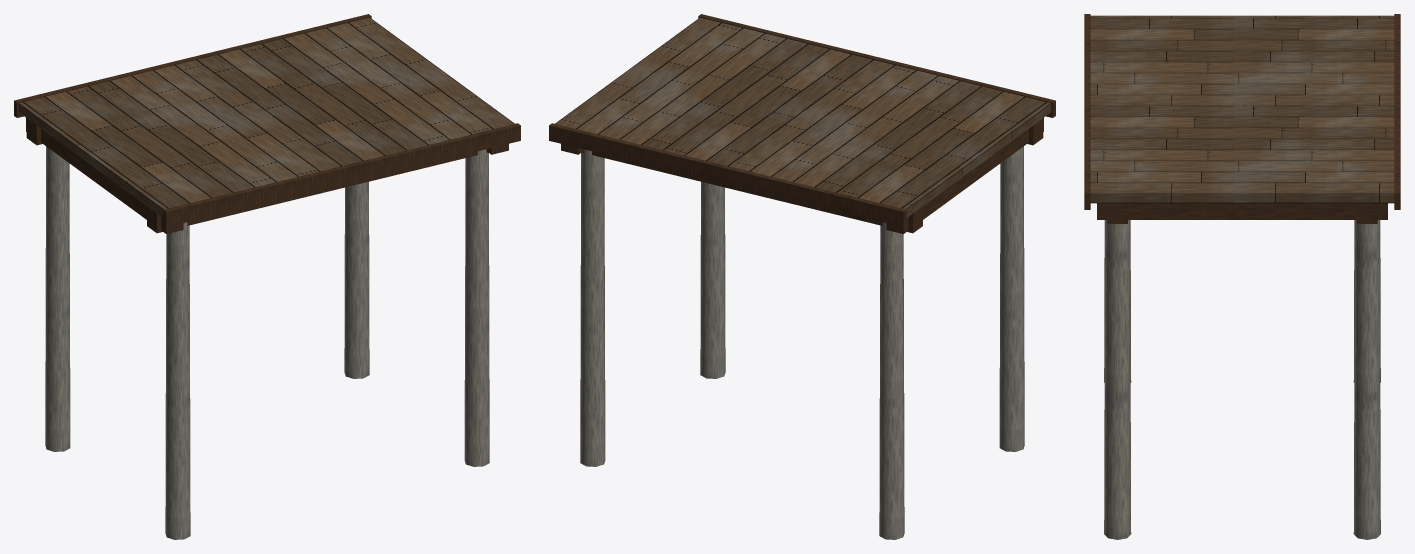
File: SM_Art_Pier_405x300x100_P375.gltf
The picture shows the model from 3 angles, left to right: view 1: azimuth 30°, elevation 25°; view 2: azimuth 150°, elevation 25°; view 3: azimuth 270°, elevation 25°; orthographic projection. The views are drawn at different scales.
Parts seen in each view (by area): view 1: SM_Art_Pier_405x300x100_P375; view 2: SM_Art_Pier_405x300x100_P375; view 3: SM_Art_Pier_405x300x100_P375.
Boxes of the visible parts, left/top/right/bottom form: SM_Art_Pier_405x300x100_P375: left=14, top=14, right=520, bottom=539; SM_Art_Pier_405x300x100_P375: left=549, top=14, right=1055, bottom=539; SM_Art_Pier_405x300x100_P375: left=1084, top=14, right=1400, bottom=539.
Size of the model in its own units: 4.09 by 3.76 by 3.04.
Materials: 3 (3 with a texture image).
